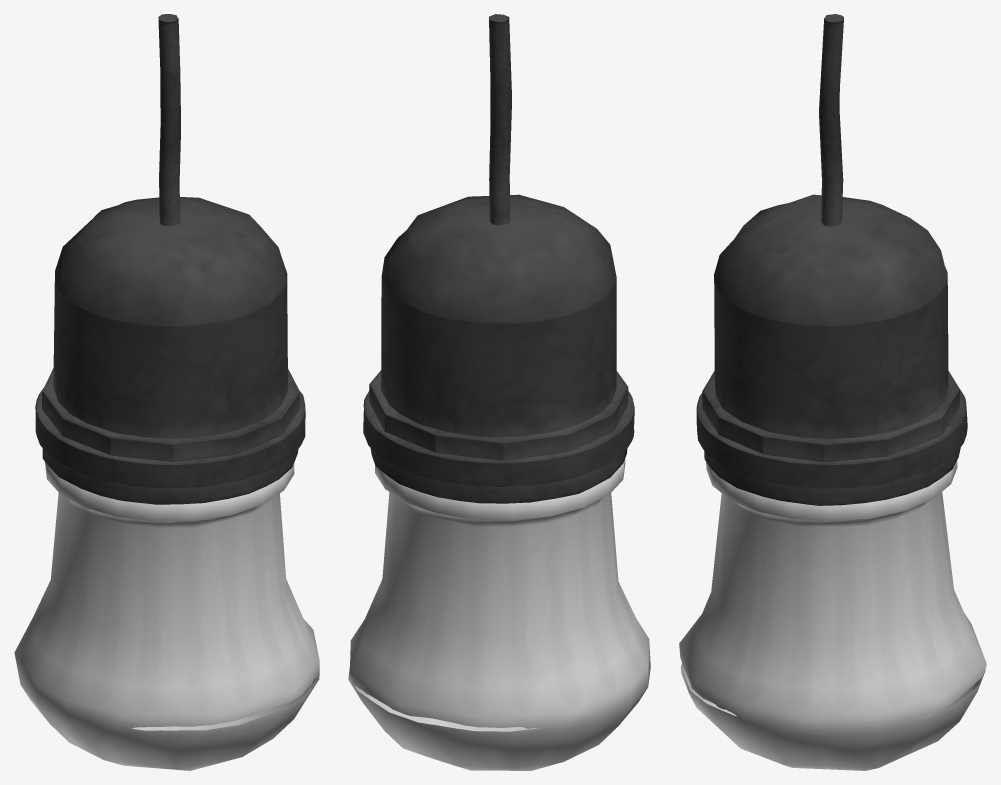
File: SM_hanginglight_01b.fbx
3 renders of one model, left to right at view 1: azimuth 30°, elevation 25°; view 2: azimuth 150°, elevation 25°; view 3: azimuth 270°, elevation 25°, orthographic.
Parts seen in each view (by area): view 1: SM_hanginglight_01b_LOD0; view 2: SM_hanginglight_01b_LOD0; view 3: SM_hanginglight_01b_LOD0.
Boxes of the visible parts, left/top/right/bottom form: SM_hanginglight_01b_LOD0: left=14, top=14, right=319, bottom=770; SM_hanginglight_01b_LOD0: left=348, top=14, right=650, bottom=770; SM_hanginglight_01b_LOD0: left=679, top=14, right=986, bottom=770.
Size of the model in its own units: 11.08 by 11.19 by 29.29.
